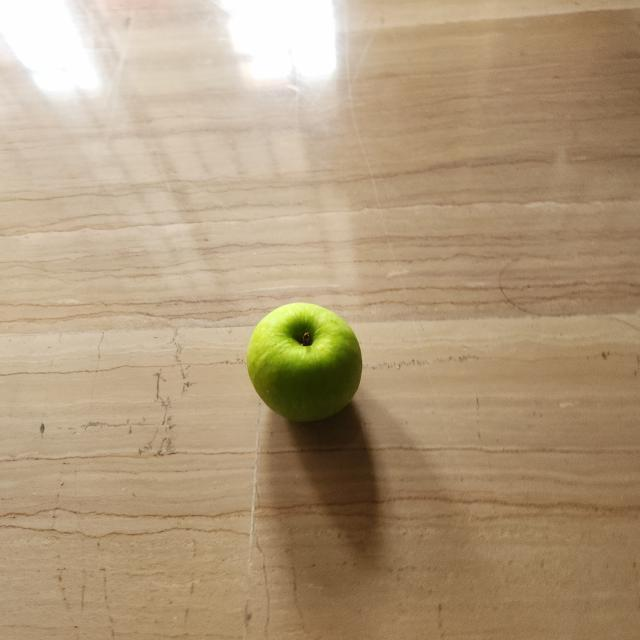apple: (238, 293, 374, 445)
